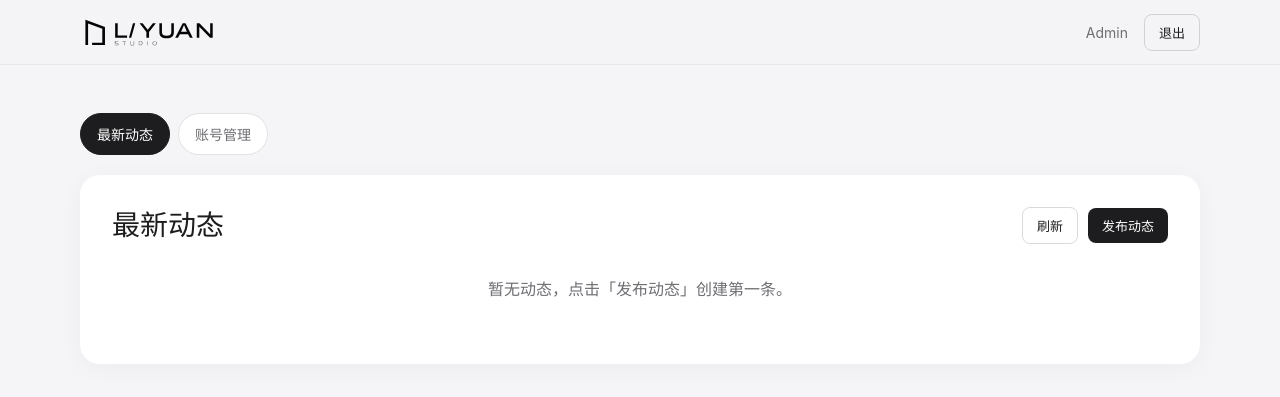
Test case: AdminPage › deletes a user after confirmation
The image size is (1280, 397).
Click the tab "账号管理": point(223, 134) [178, 113, 268, 155]
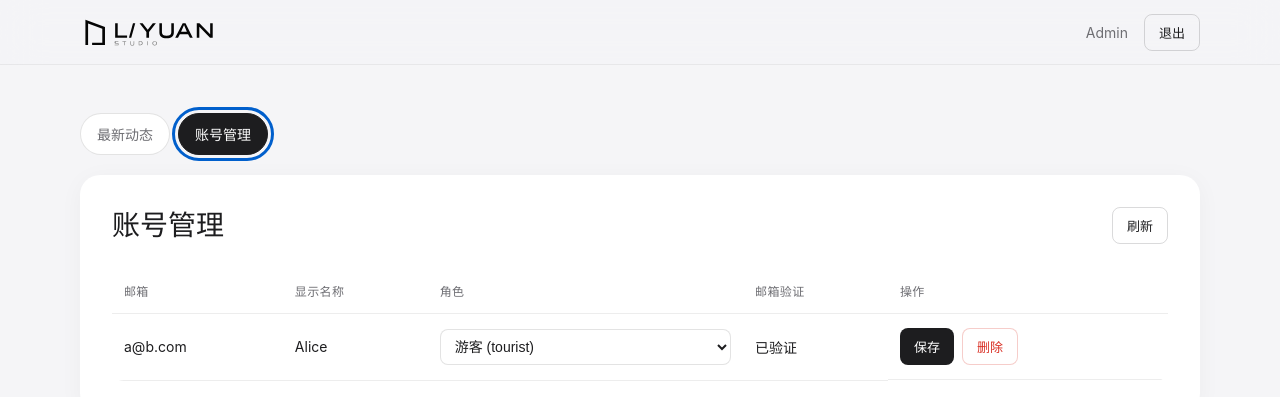
Check: the text "Alice" is shown, box [283, 314, 428, 380]
Click the button with aria-label "删除用户 Alice": point(990, 346) [962, 328, 1018, 365]
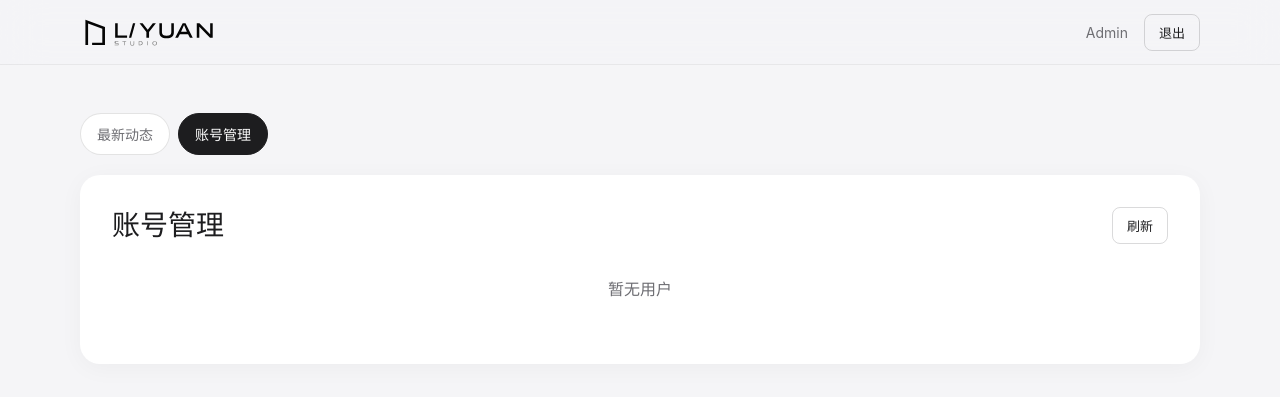
Check: the text "Alice" is gone
